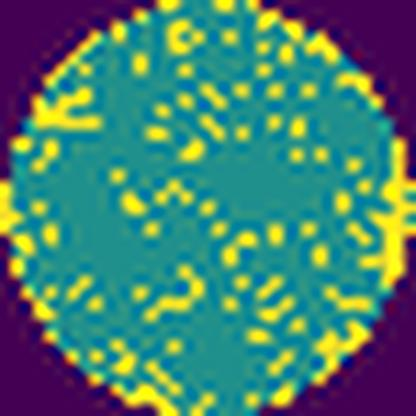Edge-Loc: (356, 132, 415, 291), (304, 320, 374, 390), (26, 86, 107, 139)
